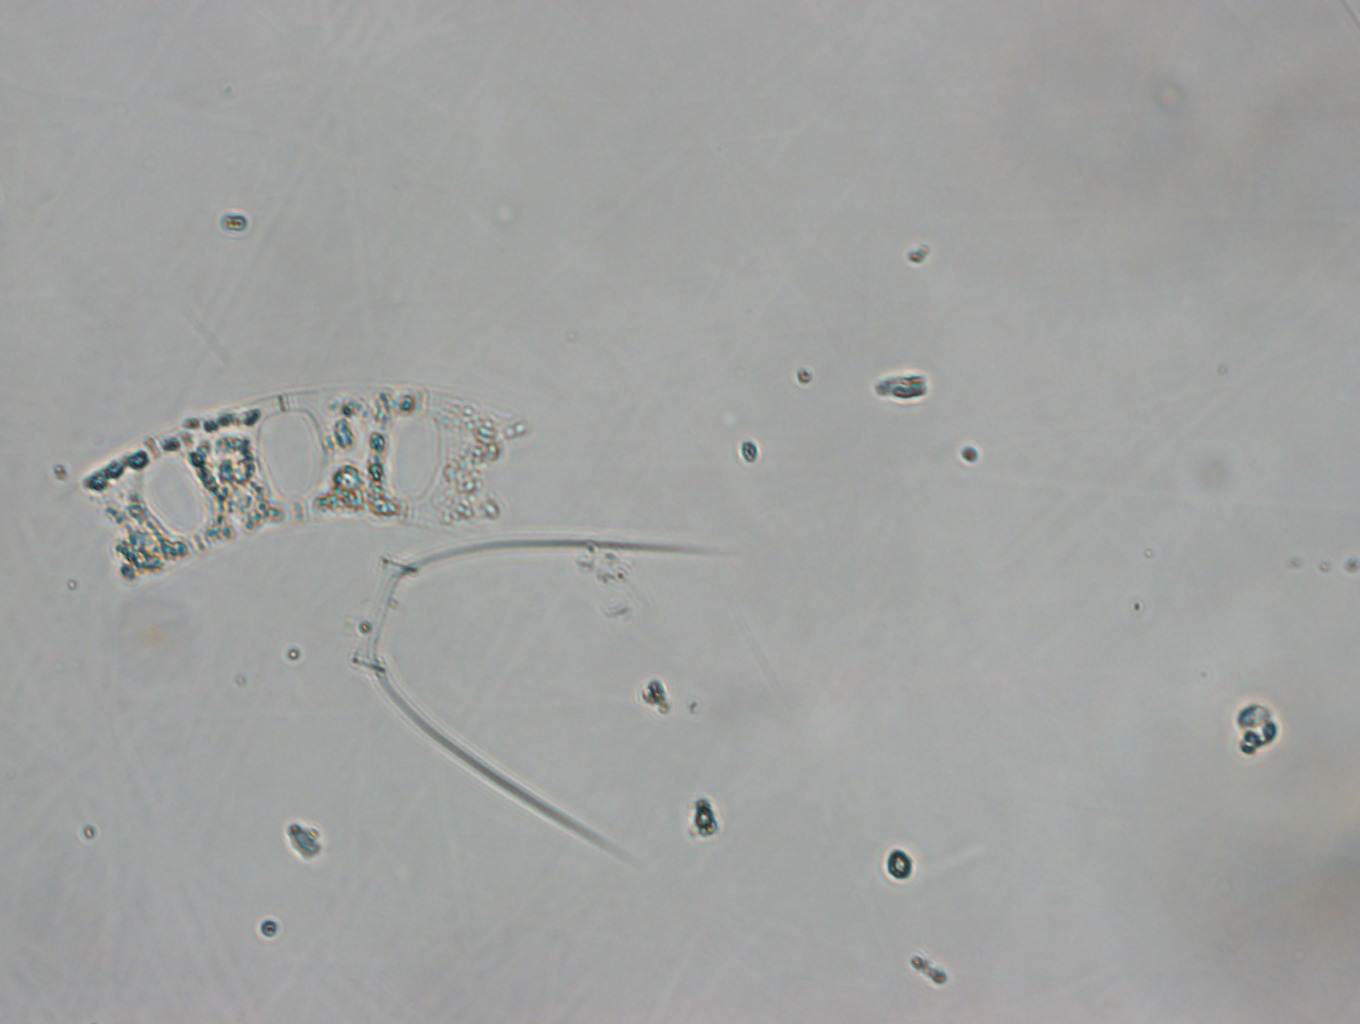eucampia: (87, 378, 525, 573)
